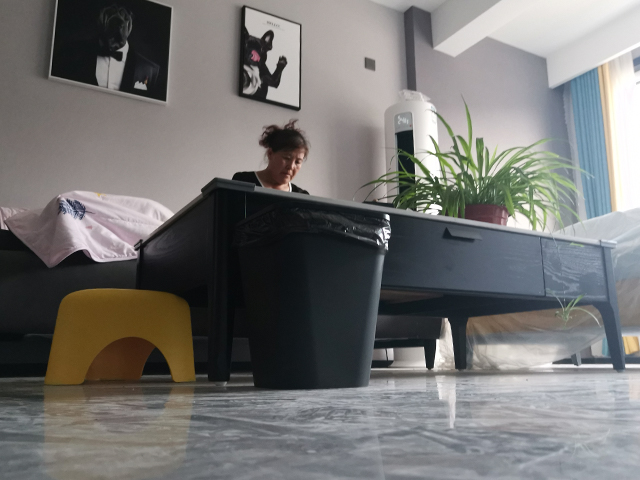sofa: (1, 188, 139, 380)
stool: (42, 286, 197, 387)
table: (130, 176, 629, 374)
trashcan: (229, 199, 394, 392)
